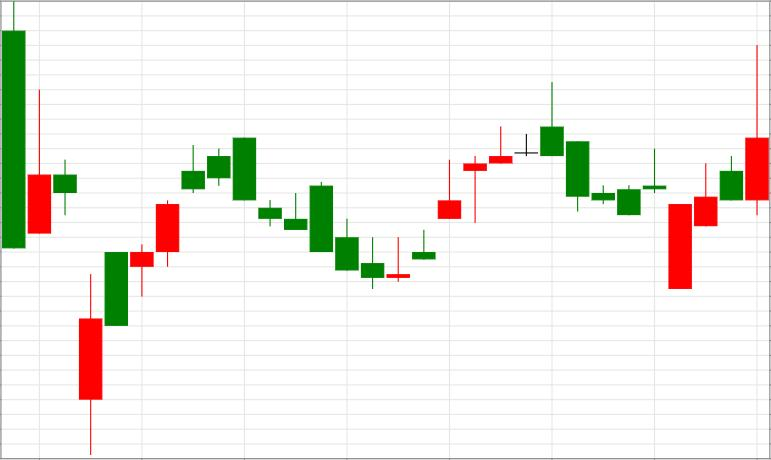shooting_star_fall: (387, 81, 564, 281)
